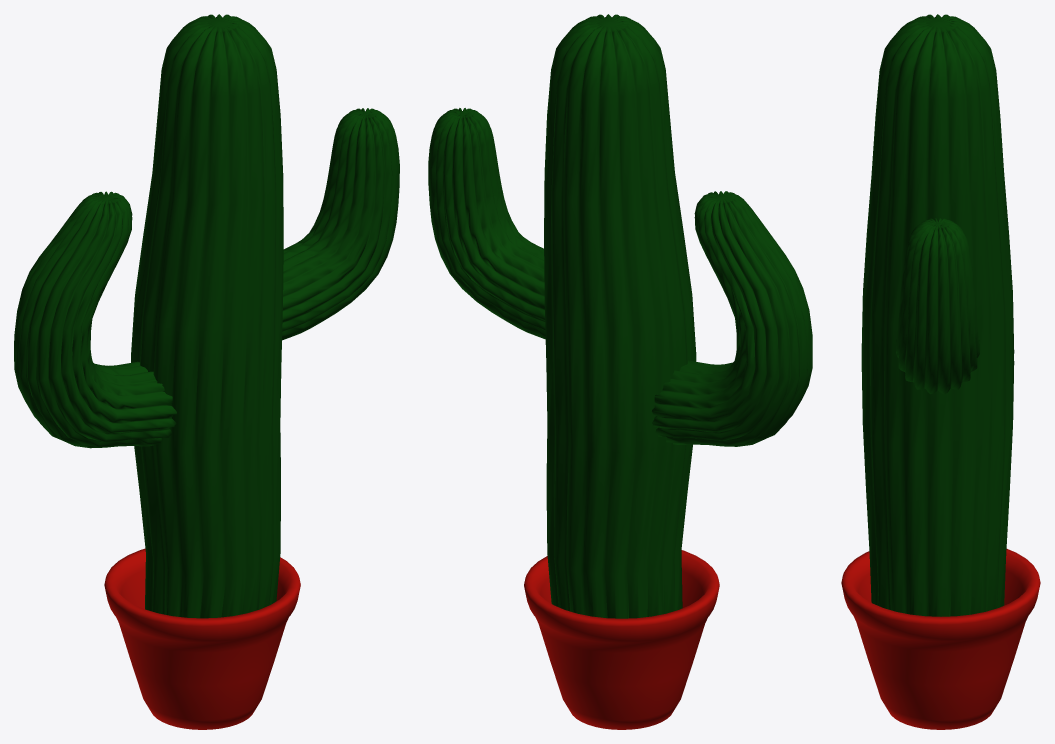
File: Cactus_Pot.FBX
3 renders of one model, left to right at view 1: azimuth 30°, elevation 25°; view 2: azimuth 150°, elevation 25°; view 3: azimuth 270°, elevation 25°, orthographic.
Visible parts, largest first — view 1: Cactus, Cylinder001; view 2: Cactus, Cylinder001; view 3: Cactus, Cylinder001.
Boxes of the visible parts, left/top/right/bottom form: Cactus: left=14, top=14, right=399, bottom=618; Cylinder001: left=104, top=548, right=300, bottom=729; Cactus: left=428, top=14, right=812, bottom=618; Cylinder001: left=524, top=550, right=719, bottom=729; Cactus: left=861, top=14, right=1014, bottom=616; Cylinder001: left=841, top=549, right=1040, bottom=729.
Size of the model in its own units: 36.56 by 63.56 by 16.58.
